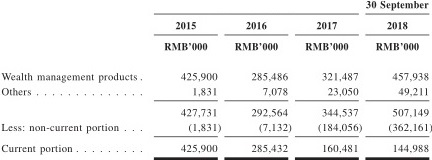column: (2, 1, 142, 160), (366, 1, 432, 160), (165, 1, 222, 160), (235, 1, 291, 160), (306, 1, 362, 160)
row: (1, 20, 431, 30), (1, 42, 432, 51), (1, 72, 432, 81), (1, 87, 431, 96), (1, 108, 431, 117), (1, 123, 431, 132), (1, 144, 431, 152), (1, 10, 431, 12)
